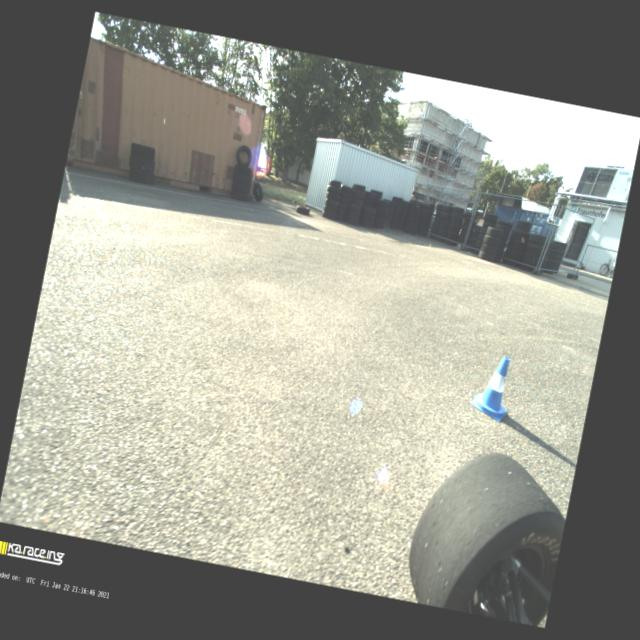blue_cone: (468, 352, 517, 422)
